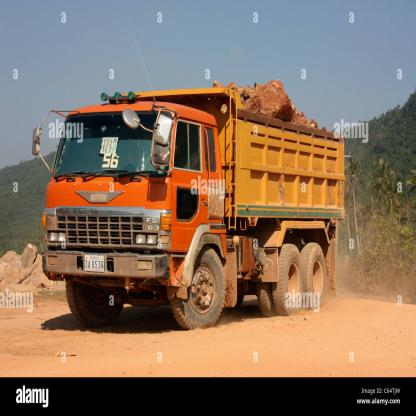dump_truck: (36, 81, 370, 330)
